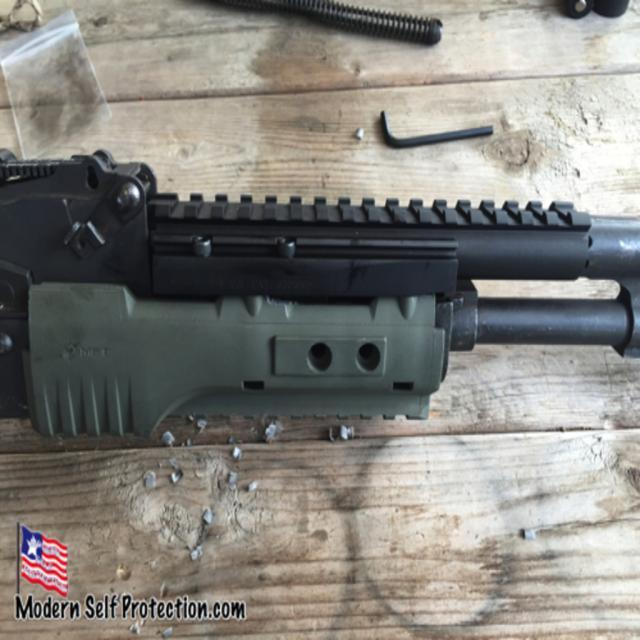weapon: (0, 146, 640, 440)
